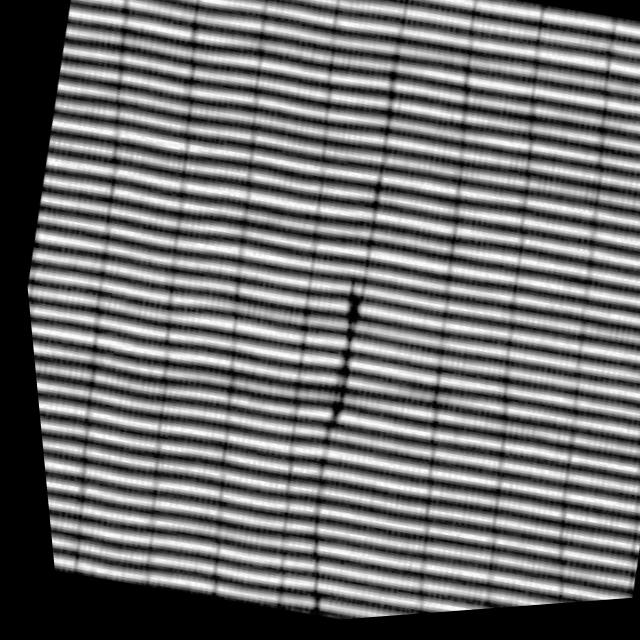Stitch: (238, 284, 429, 627)
